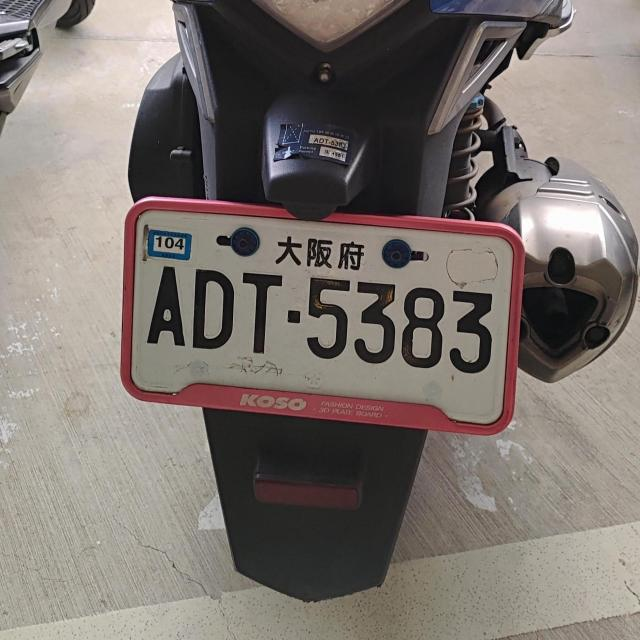W: (127, 202, 529, 434)
